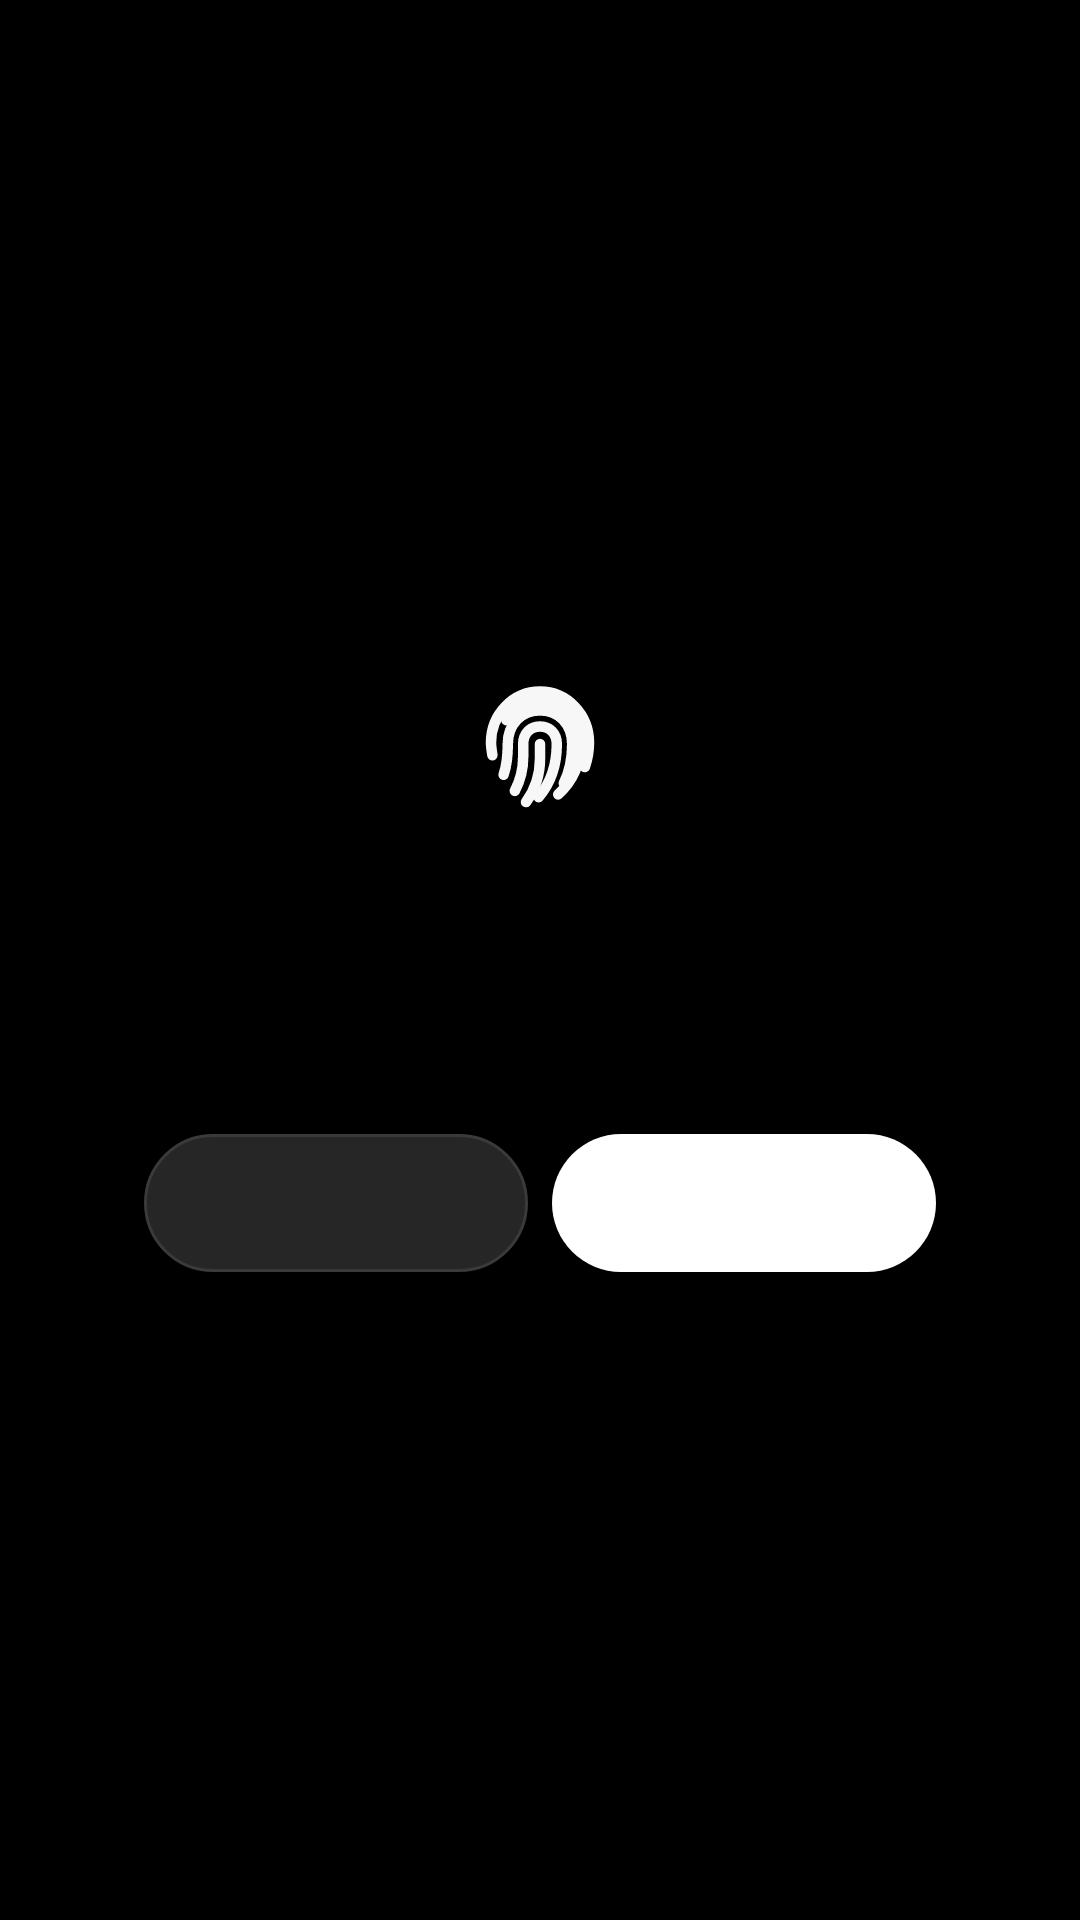

Locate icon controls on the screen. Image size 1080px x 1920px, boxes as (x1,y1,x2,y2).
security fingerprint: (485,686,595,808)
